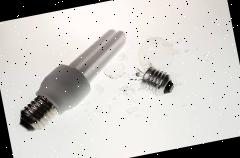lightbulb: (5, 26, 140, 134), (133, 33, 176, 73), (137, 62, 175, 99)
